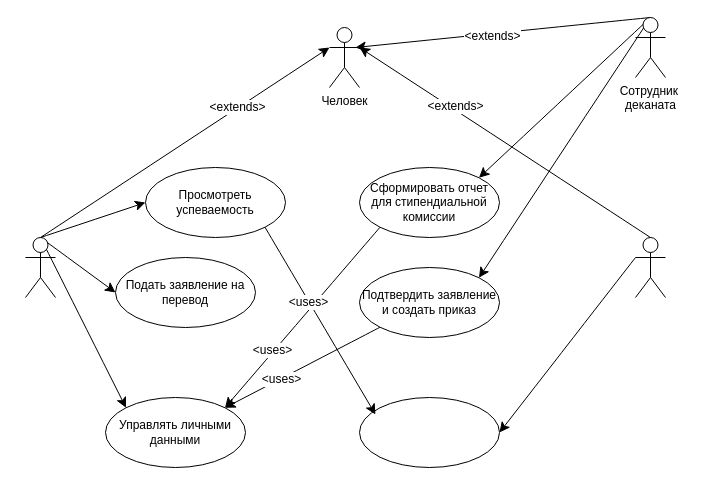
Image size: 710x485. Some labels were removed from this diagram. The centre of each missing label's shape, as x and y in pixels:
Вести успеваемость: (429,432)
Преподаватель: (650,267)
Студент: (40,267)
